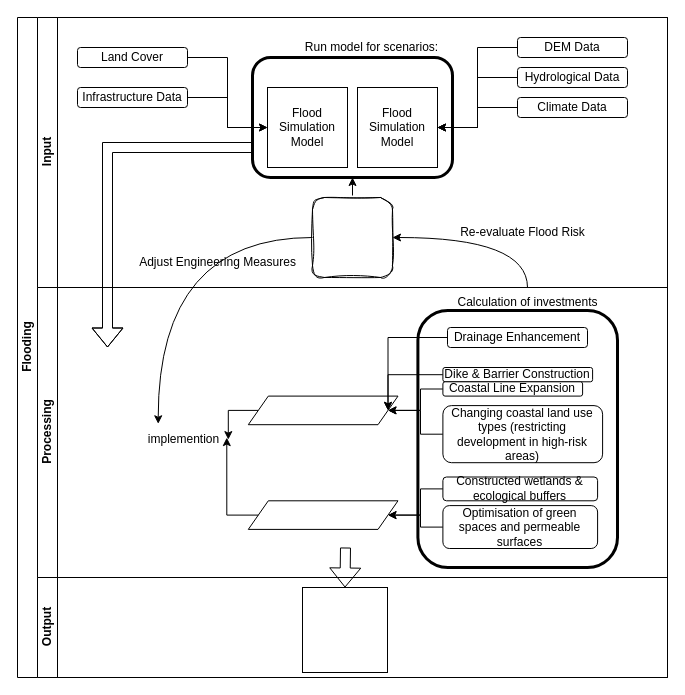
Some shapes in this 685 by 695 pixel diagram are drawn without their labels. Here are the shapes that lost their labels. From the top down, the centre of each, then its label:
pixel 352 237: Estimate Economic & Social Loss
pixel 322 410: engineering measure
pixel 322 514: Natural Base Solution (NbS)
pixel 345 629: Optimal Flood Response
